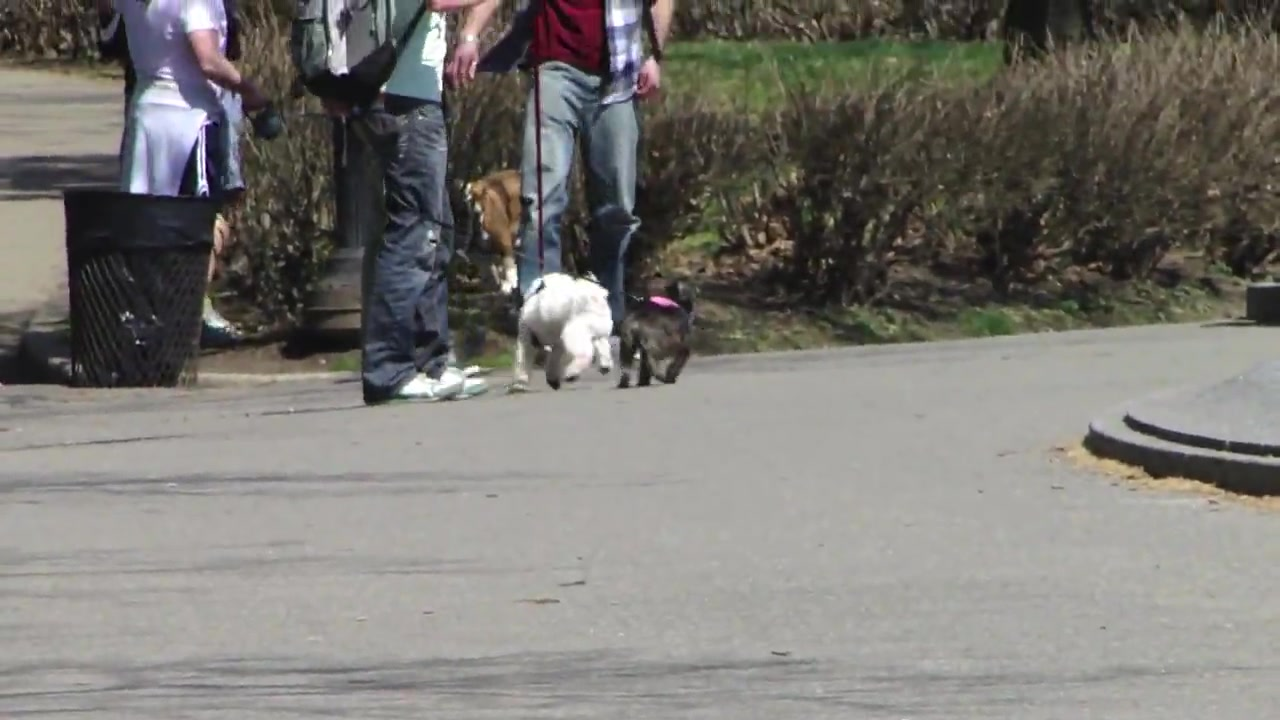dog: (511, 268, 617, 395)
